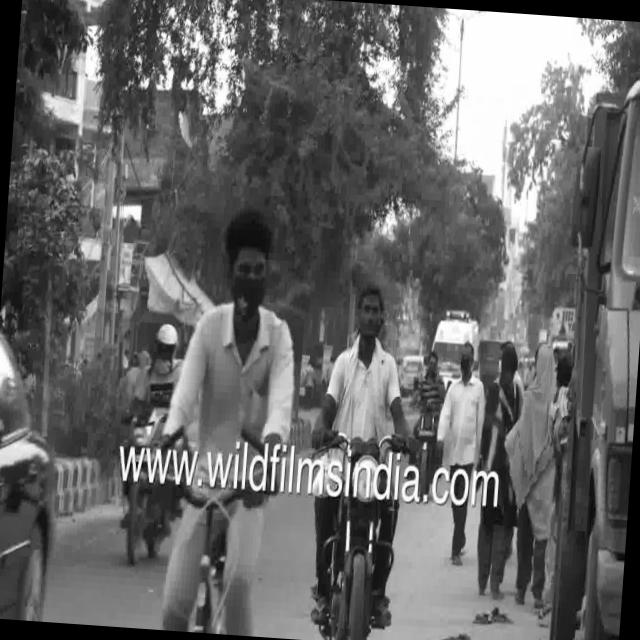ambulance: (424, 302, 484, 371)
